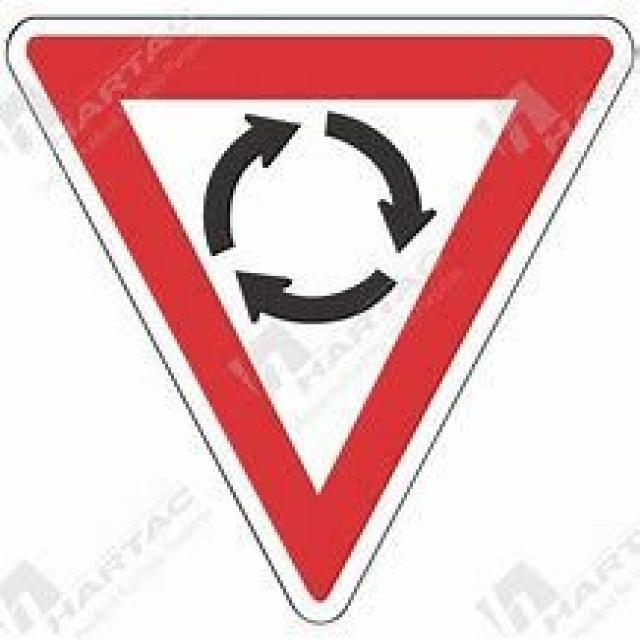roundabout: (25, 32, 616, 599)
